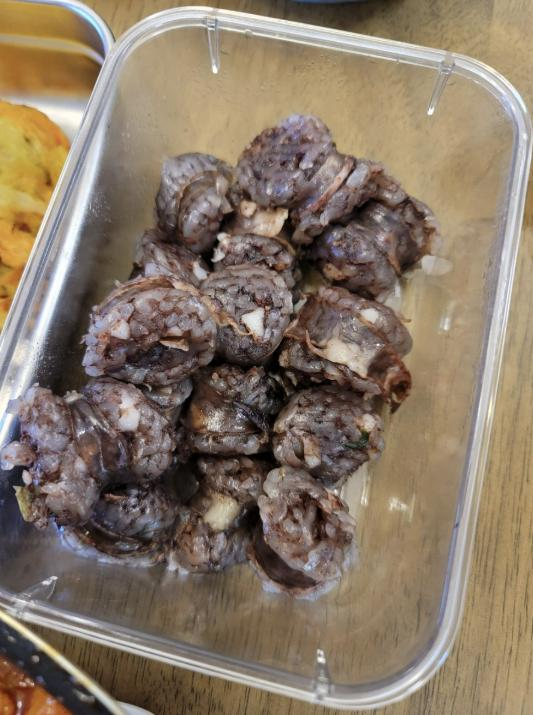Lunch Box: (0, 7, 531, 709)
